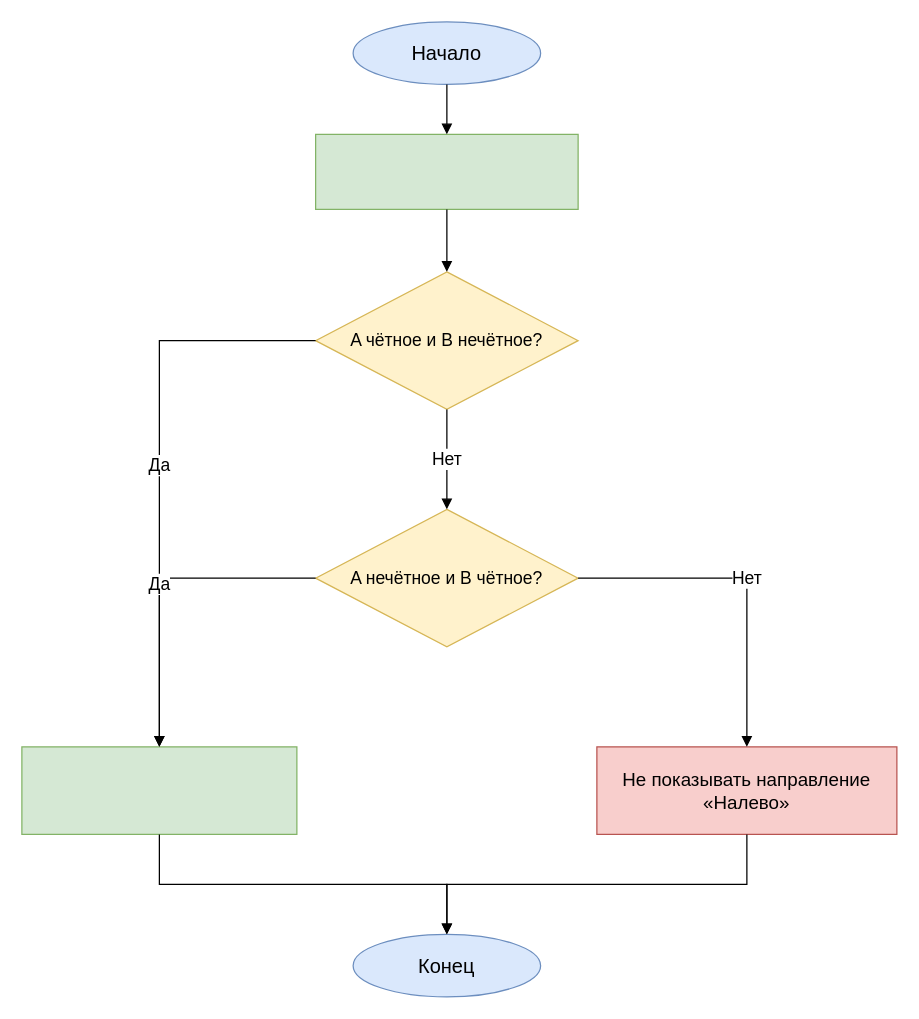
This 919x1019 diagram has some shape labels left out. The centre of each missing label's shape, as x and y in pixels:
Ввести значения A и B: point 446,171
Показать направление «Налево»: point 159,790
